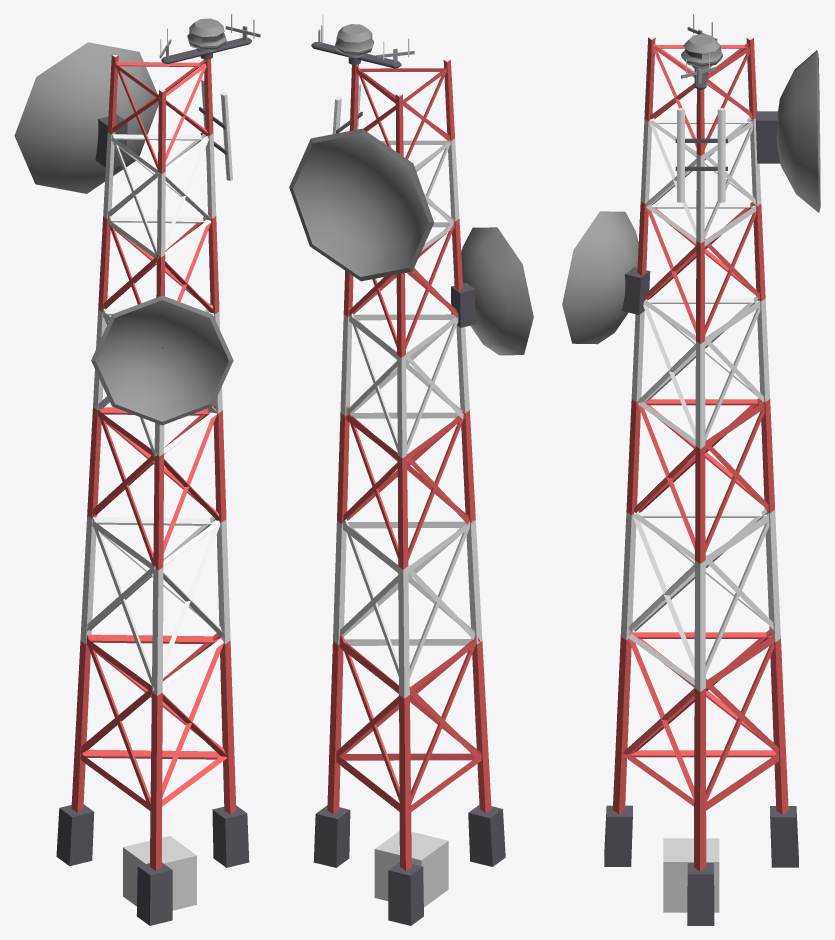
Rendered from RadioTower.fbx.
3 views of the same model, side by side, from view 1: azimuth 30°, elevation 25°; view 2: azimuth 150°, elevation 25°; view 3: azimuth 270°, elevation 25° (orthographic). The views are drawn at different scales.
Parts seen in each view (by area): view 1: node-0, Cube; view 2: node-0, Cube; view 3: node-0, Cube.
Part boxes in pixels (x1,y1,x2,y2): node-0: (14, 14, 260, 925); Cube: (123, 835, 196, 910); node-0: (289, 14, 533, 925); Cube: (374, 831, 448, 907); node-0: (562, 14, 820, 925); Cube: (663, 838, 719, 912).
Bounding box in the file's own units: 815 × 3495 × 923.
